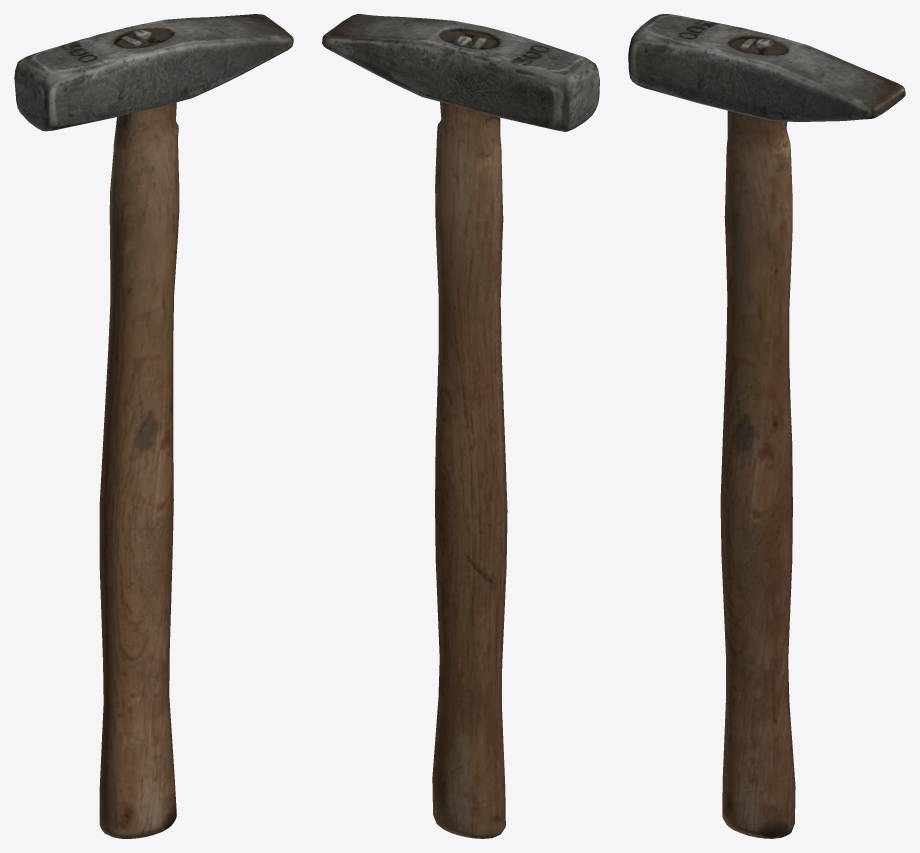
Rendered from molot.glb.
3 renders of one model, left to right at view 1: azimuth 30°, elevation 25°; view 2: azimuth 150°, elevation 25°; view 3: azimuth 330°, elevation 25°, orthographic.
Parts seen in each view (by area): view 1: cross_pein_hammer; view 2: cross_pein_hammer; view 3: cross_pein_hammer.
Part boxes in pixels (<box>): cross_pein_hammer: <box>14,14,293,838</box>; cross_pein_hammer: <box>322,14,599,838</box>; cross_pein_hammer: <box>628,14,905,838</box>.
Size of the model in its own units: 0.0991 by 0.3002 by 0.0243.
1 material, 1 textured.
